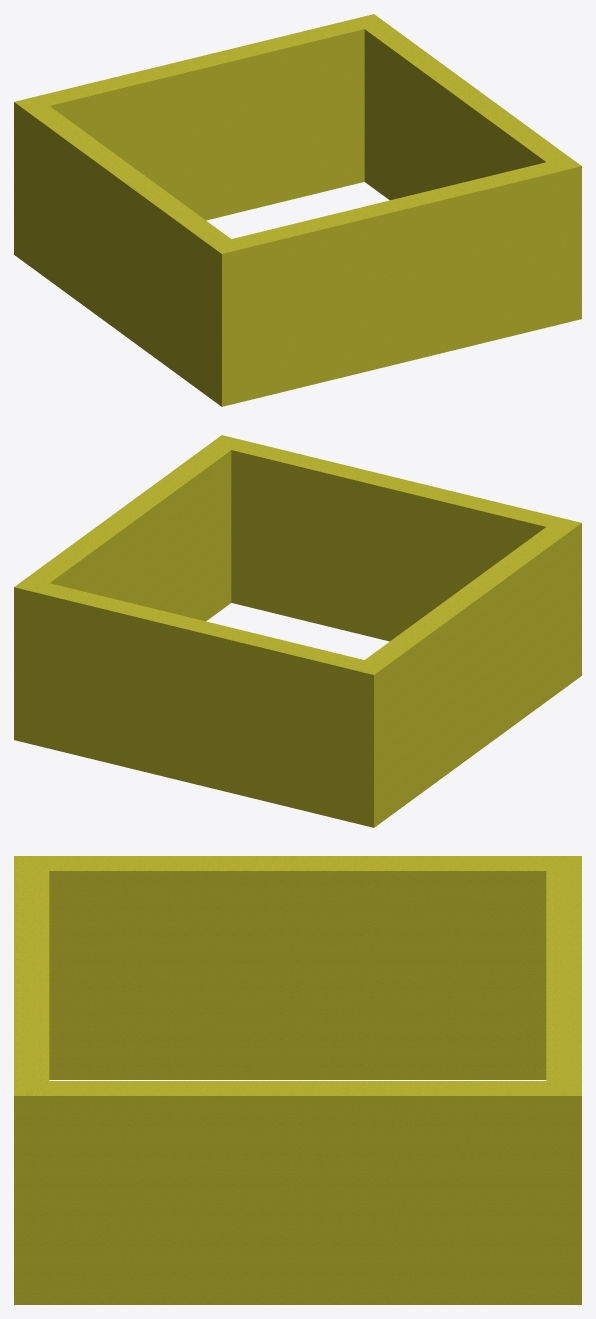
Rendered from Level0.obj.
3 renders of one model, top to bottom at view 1: azimuth 30°, elevation 25°; view 2: azimuth 150°, elevation 25°; view 3: azimuth 270°, elevation 25°, orthographic. The views are drawn at different scales.
Visible parts, largest first — view 1: Rectangle01; view 2: Rectangle01; view 3: Rectangle01.
Boxes of the visible parts, x1,y1,x2,y2 form: Rectangle01: [14, 14, 581, 406]; Rectangle01: [14, 435, 581, 827]; Rectangle01: [14, 856, 581, 1304].
Bounding box in the file's own units: 4 × 1.62 × 4.
